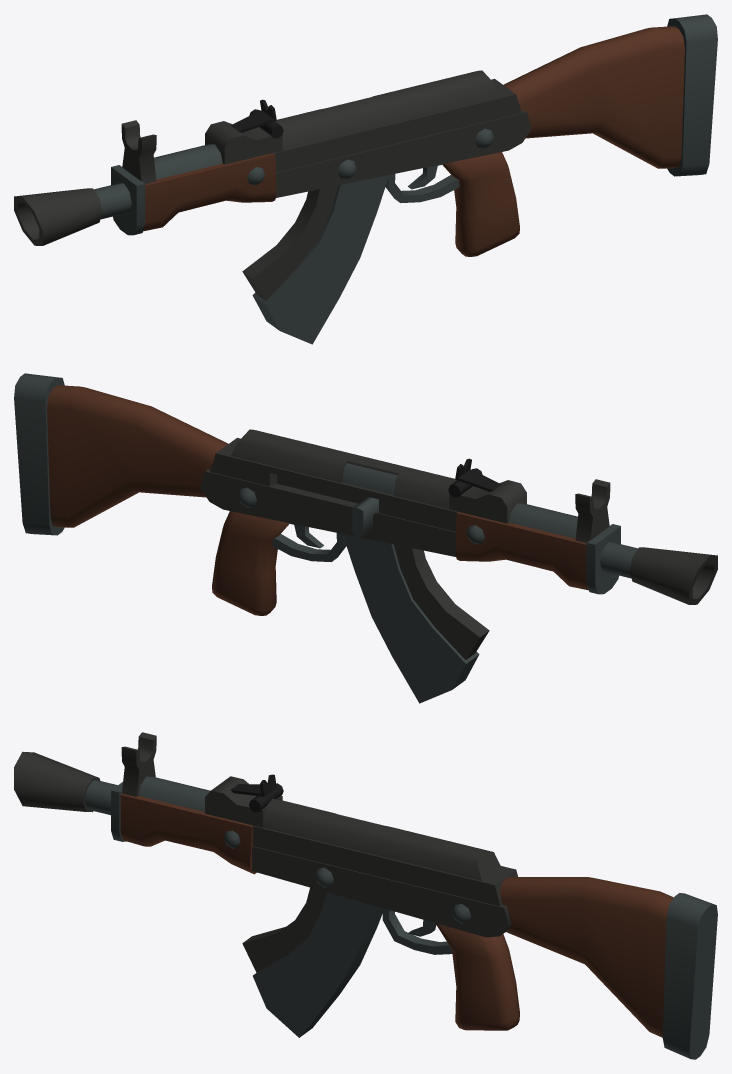
The model's file is Rifle.glb.
3 renders of one model, top to bottom at view 1: azimuth 30°, elevation 25°; view 2: azimuth 150°, elevation 25°; view 3: azimuth 330°, elevation 25°, orthographic.
Visible parts, largest first — view 1: automatic_rifle; view 2: automatic_rifle; view 3: automatic_rifle.
Part boxes in pixels (x1=…): automatic_rifle: x1=14, y1=14, x2=717, y2=344; automatic_rifle: x1=14, y1=373, x2=717, y2=703; automatic_rifle: x1=14, y1=732, x2=717, y2=1059.
Size of the model in its own units: 0.6091 by 0.2126 by 0.0604.
1 material, 1 textured.
